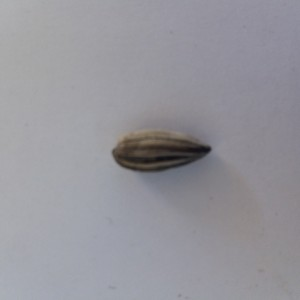girasol: (110, 125, 215, 177)
